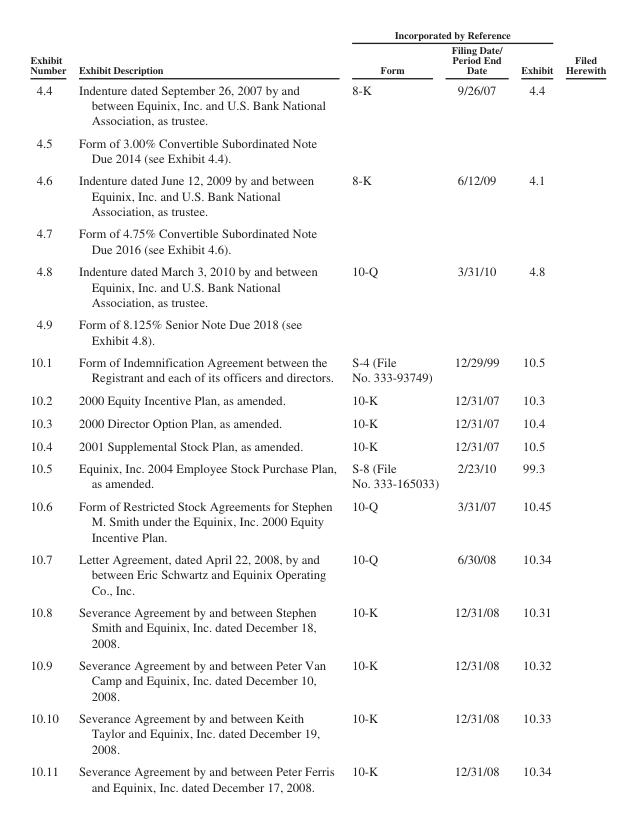table: (29, 28, 605, 793)
table column: (71, 28, 343, 793), (343, 28, 444, 793), (444, 28, 510, 793), (510, 28, 558, 793), (558, 28, 605, 793), (29, 28, 71, 793)
table column header: (29, 28, 605, 78)
table row: (29, 168, 605, 221), (29, 259, 605, 312), (29, 494, 605, 547), (29, 547, 605, 600), (29, 600, 605, 653), (29, 653, 605, 706), (29, 706, 605, 759), (29, 78, 605, 130), (29, 130, 605, 168), (29, 221, 605, 259), (29, 312, 605, 350), (29, 350, 605, 388), (29, 456, 605, 494), (29, 41, 605, 78), (29, 759, 605, 793), (29, 388, 605, 411), (29, 433, 605, 456), (29, 411, 605, 433), (29, 28, 605, 41)
table spanning cell: (71, 28, 343, 78), (343, 28, 558, 41), (558, 28, 605, 78), (29, 28, 71, 78)
